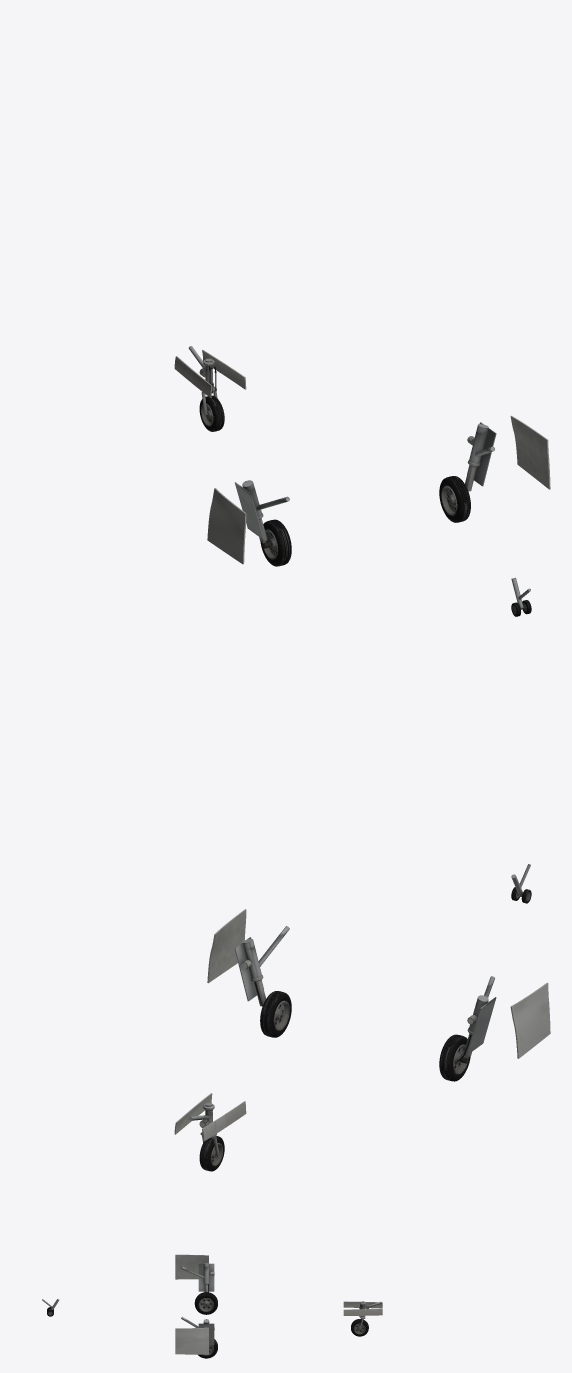
File: draken_gear.glb
3 renders of one model, top to bottom at view 1: azimuth 30°, elevation 25°; view 2: azimuth 150°, elevation 25°; view 3: azimuth 270°, elevation 25°, orthographic. The views are drawn at different scales.
Visible parts, largest first — view 1: gear_m_r, gear_m_l, door_m_l, door_m_r, gear_n; view 2: gear_m_r, gear_m_l, door_m_l, door_m_r, gear_n, door_n_l; view 3: gear_m_l, door_m_r, door_m_l, gear_m_r, gear_n, door_n_r, door_n_l.
Part boxes in pixels (x1,y1,x2,y2): gear_m_r: (439, 422, 496, 522); gear_m_l: (234, 480, 291, 566); door_m_l: (207, 488, 246, 564); door_m_r: (510, 415, 550, 489); gear_n: (188, 346, 224, 431); gear_m_r: (234, 926, 291, 1037); gear_m_l: (439, 976, 496, 1081); door_m_l: (510, 982, 550, 1058); door_m_r: (207, 909, 246, 983); gear_n: (188, 1102, 224, 1171); door_n_l: (202, 1101, 246, 1141); gear_m_l: (181, 1263, 217, 1314); door_m_r: (175, 1327, 208, 1354); door_m_l: (175, 1254, 208, 1279); gear_m_r: (181, 1316, 217, 1358); gear_n: (351, 1301, 381, 1336); door_n_r: (343, 1308, 382, 1315); door_n_l: (343, 1301, 382, 1308).
Bounding box in the file's own units: 5.07 × 4.22 × 15.35.
1 material, 1 textured.
